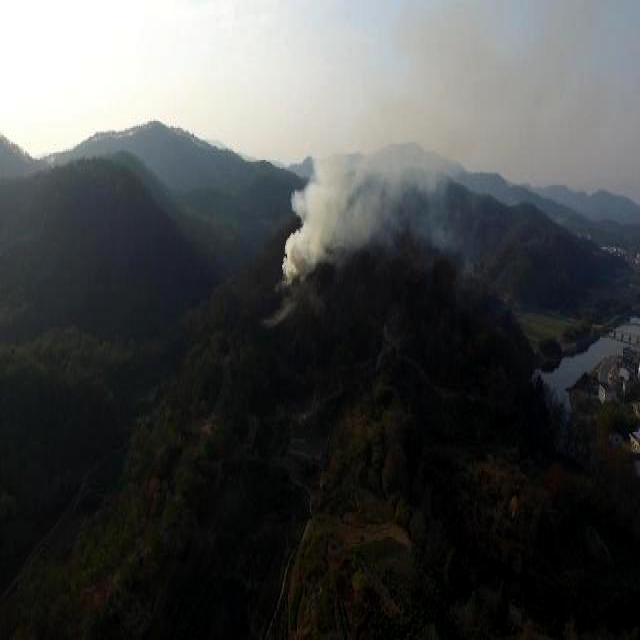Smoke: (278, 84, 448, 272)
